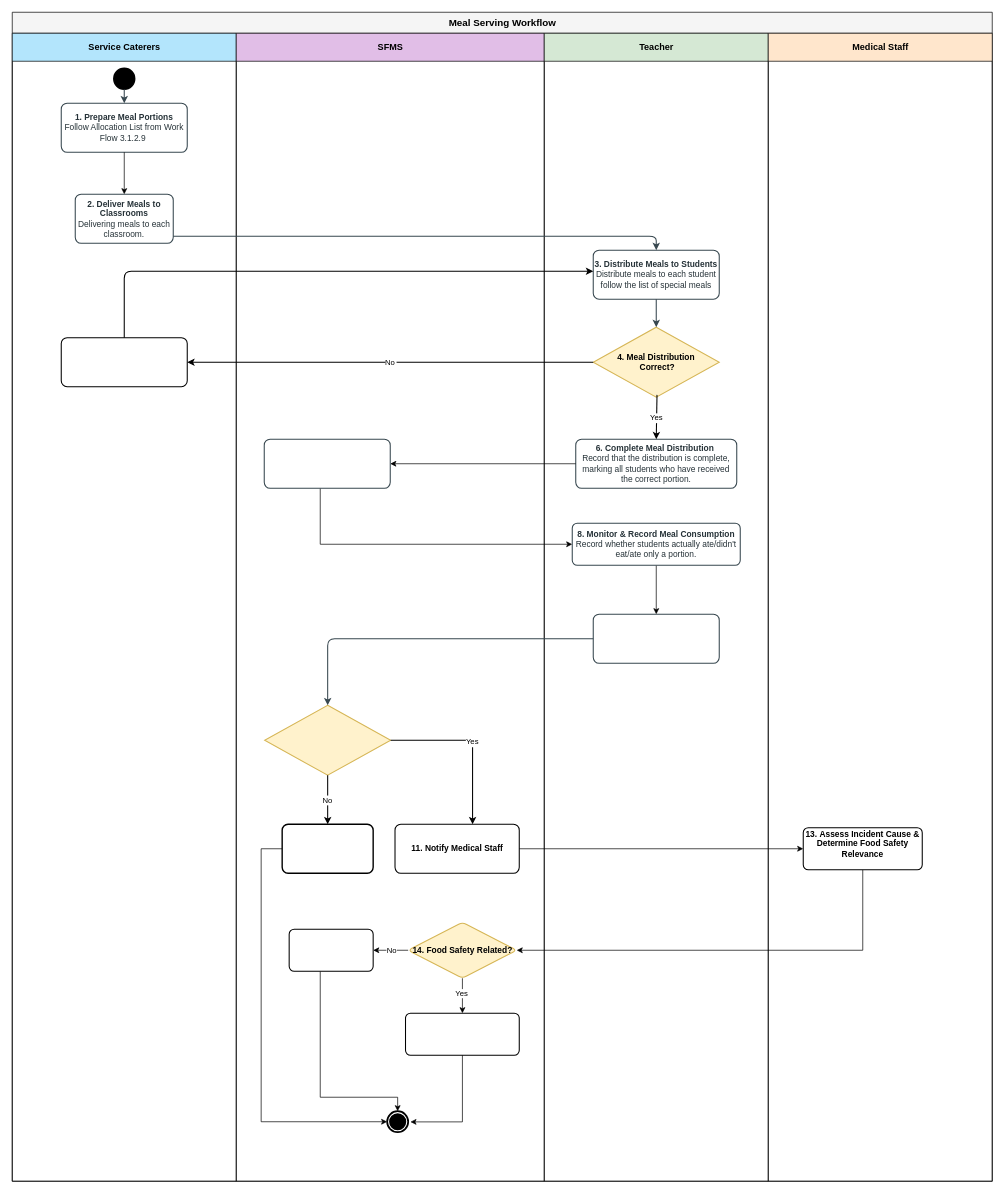
The diagram is 1005 pixels wide and 1194 high, and some of its shapes have lost their labels. The centre of each missing label's shape, as x and y in pixels:
10. Incident Reported?: pixel 327 739
12. Complete Service Meal distribution is completed successfully: pixel 327 848
15. Record General Health Incident: pixel 330 949
16. Create Food Safety Incident Log Transfer to WF 3.1.2.12: pixel 462 1033
5. Correct Error Staff replaces or corrects the meal assignment: pixel 123 362
7. Record Serving Info Record service time, staff, quantity: pixel 326 463
9. Submit Meal Feedback Reports student feedback, observations or issues: pixel 655 638
